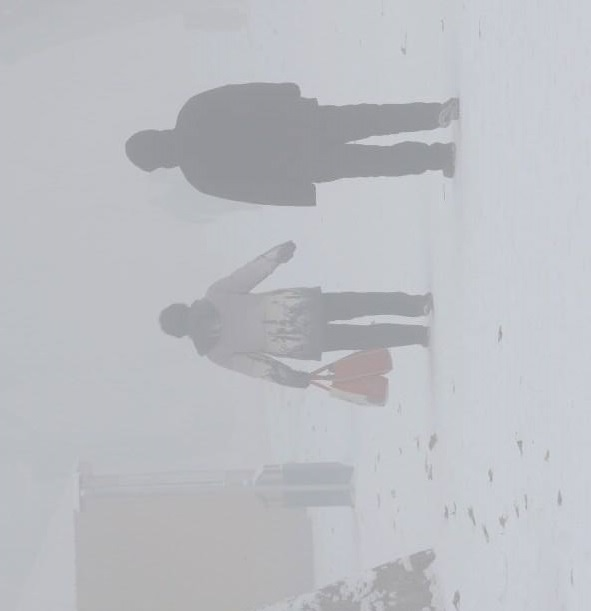person: (158, 241, 442, 406), (123, 83, 463, 209)
